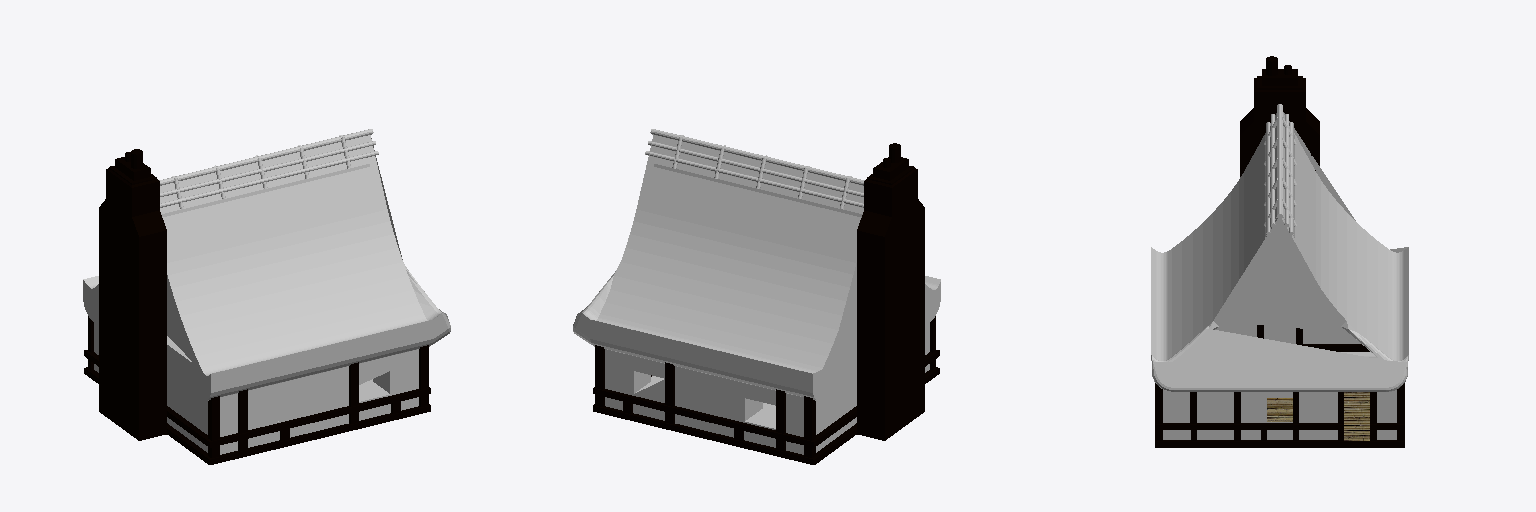
3 views of the same model, side by side, from view 1: azimuth 30°, elevation 25°; view 2: azimuth 150°, elevation 25°; view 3: azimuth 270°, elevation 25° (orthographic).
Parts seen in each view (by area): view 1: Cube.023_Cube.031; view 2: Cube.023_Cube.031; view 3: Cube.023_Cube.031.
Part boxes in pixels (x1,y1,x2,y2): Cube.023_Cube.031: (83,129,450,464); Cube.023_Cube.031: (573,129,940,464); Cube.023_Cube.031: (1151,56,1408,447).
Bounding box in the file's own units: 9.83 × 9.4 × 8.
Materials: 7 (1 with a texture image).